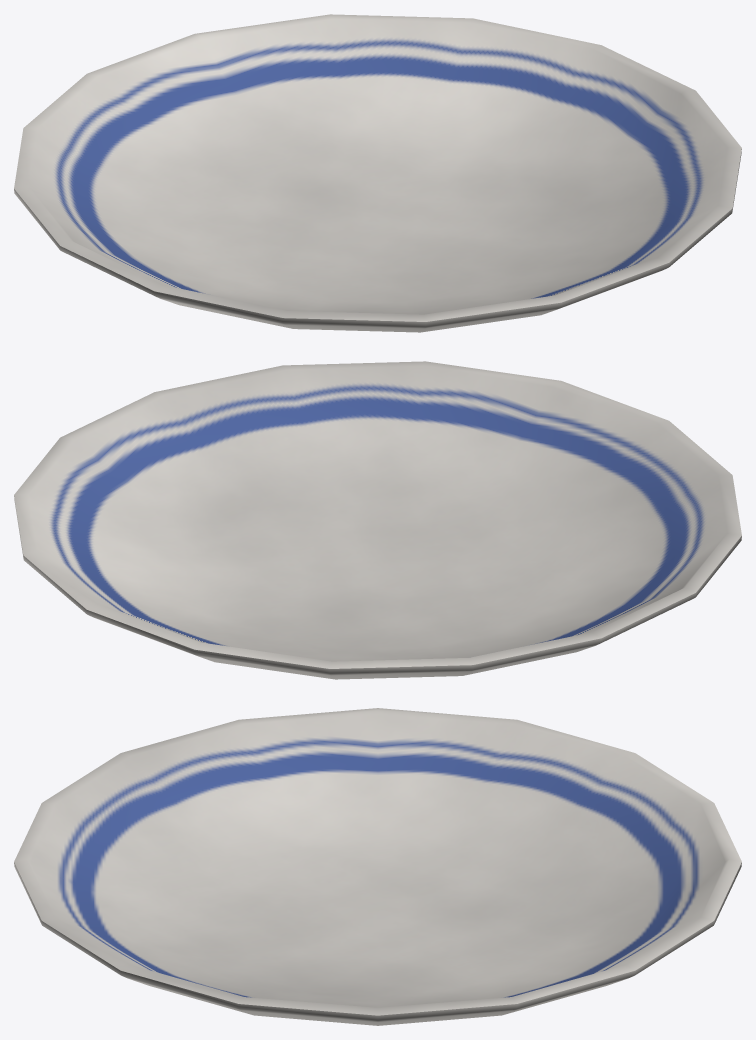
File: plate01.fbx
3 views of the same model, one above another, from view 1: azimuth 30°, elevation 25°; view 2: azimuth 150°, elevation 25°; view 3: azimuth 270°, elevation 25° (orthographic).
Visible parts, largest first — view 1: plate01; view 2: plate01; view 3: plate01.
Boxes of the visible parts, left/top/right/bottom form: plate01: left=14, top=14, right=741, bottom=332; plate01: left=14, top=361, right=741, bottom=679; plate01: left=14, top=708, right=741, bottom=1025.
Size of the model in its own units: 21.46 by 3.03 by 21.46.
